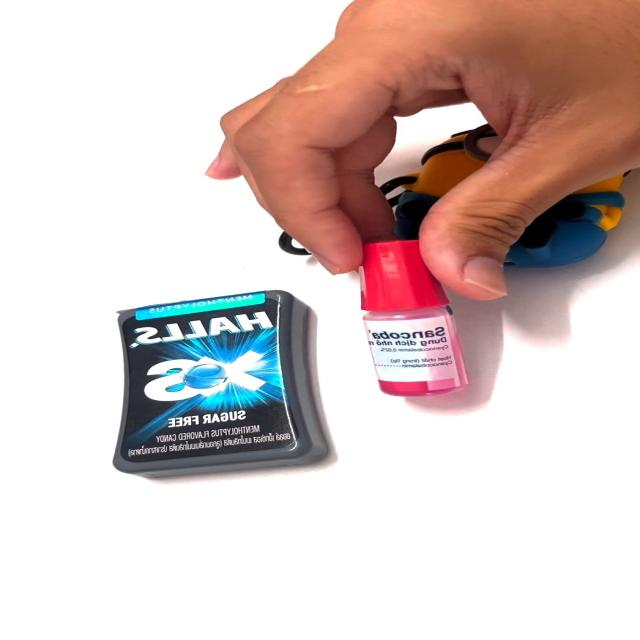airpod minion: (265, 123, 636, 273)
mint hall: (85, 278, 329, 492)
sancoba eyes: (335, 224, 469, 404)
